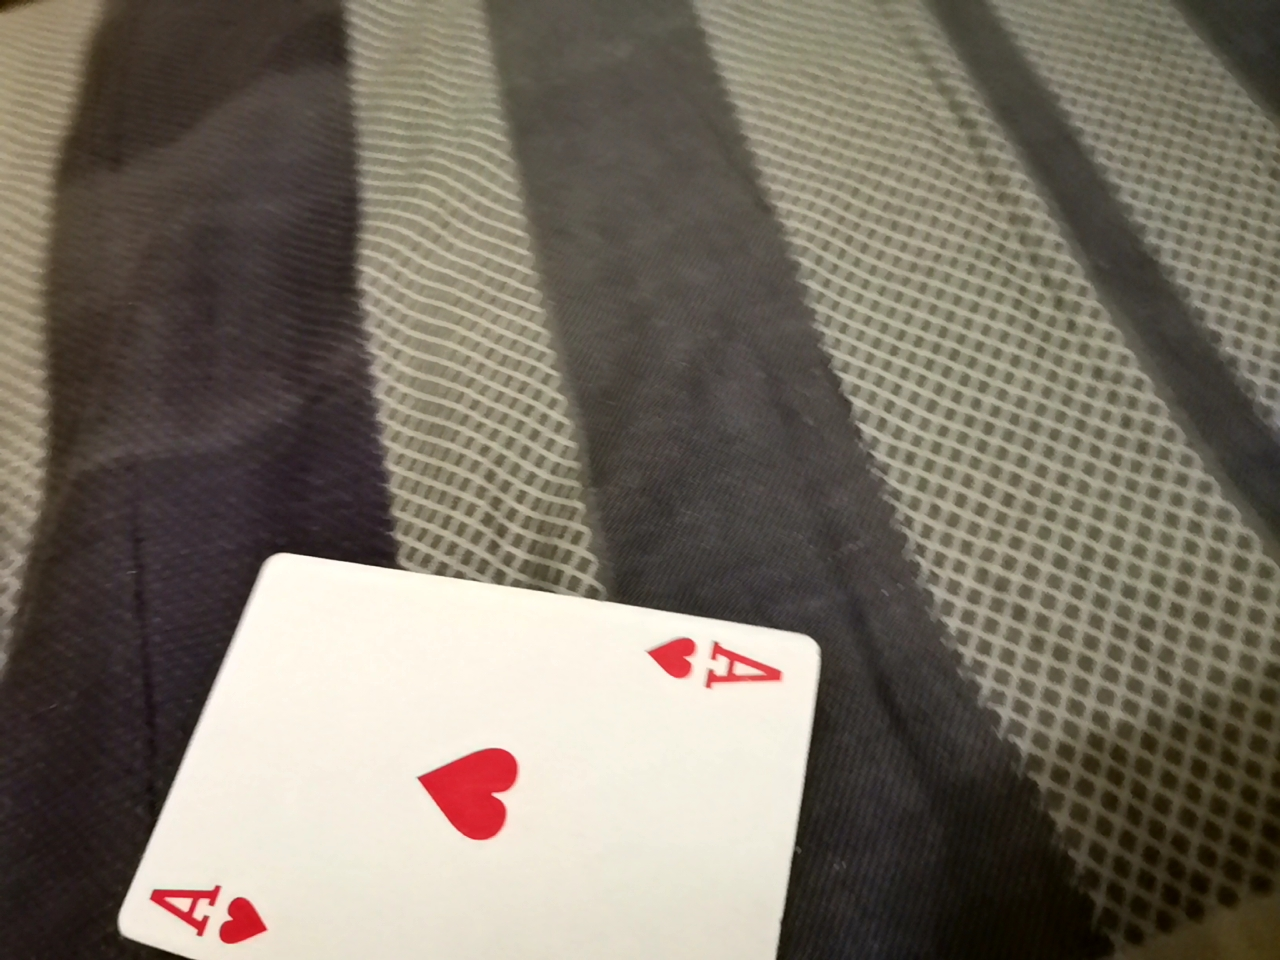hx a: (127, 542, 834, 957)
